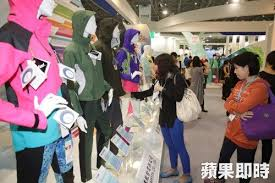people: (151, 54, 193, 183), (221, 54, 262, 183), (261, 50, 275, 183), (190, 58, 209, 113)
